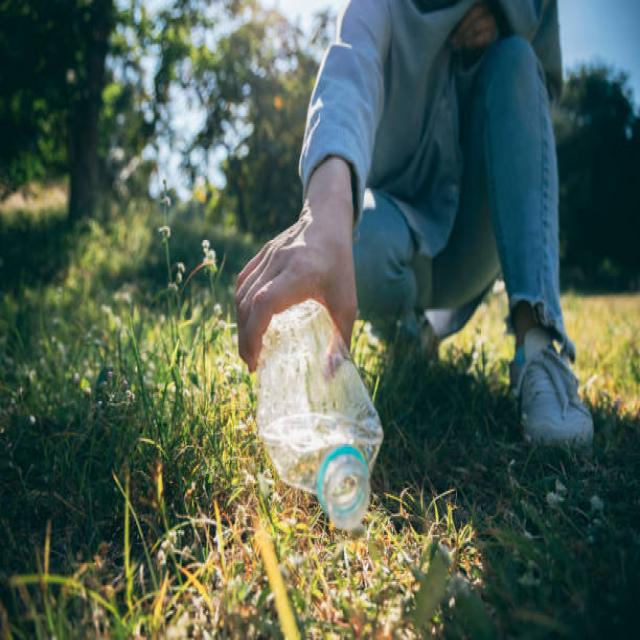plastic: (264, 298, 380, 529)
